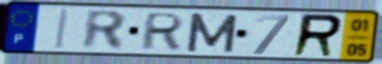7: (252, 13, 292, 56)
I: (52, 7, 72, 51)
M: (184, 12, 241, 54)
R: (289, 12, 346, 58), (81, 8, 129, 52), (137, 11, 187, 52)
